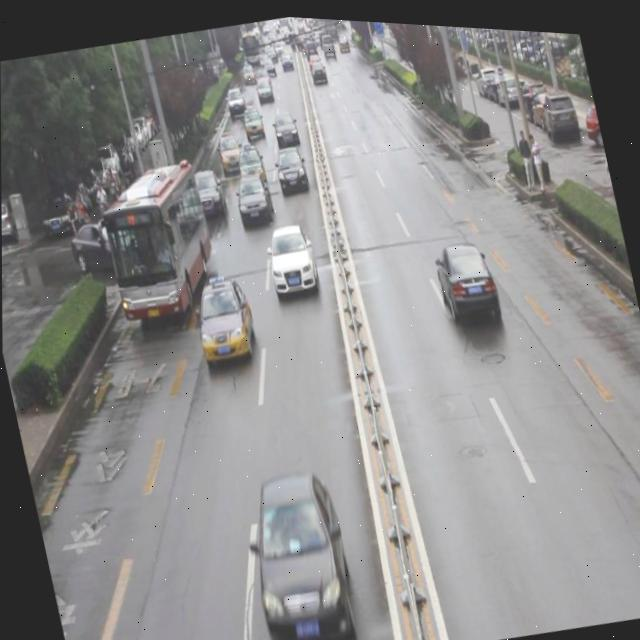car: (233, 459, 362, 640), (187, 264, 261, 369), (430, 230, 501, 325), (66, 210, 141, 281), (261, 214, 320, 295), (232, 168, 275, 223), (186, 162, 228, 217), (272, 142, 309, 191), (234, 136, 267, 184), (214, 126, 245, 172), (268, 103, 300, 144), (240, 100, 266, 137)
van: (92, 155, 222, 323)
